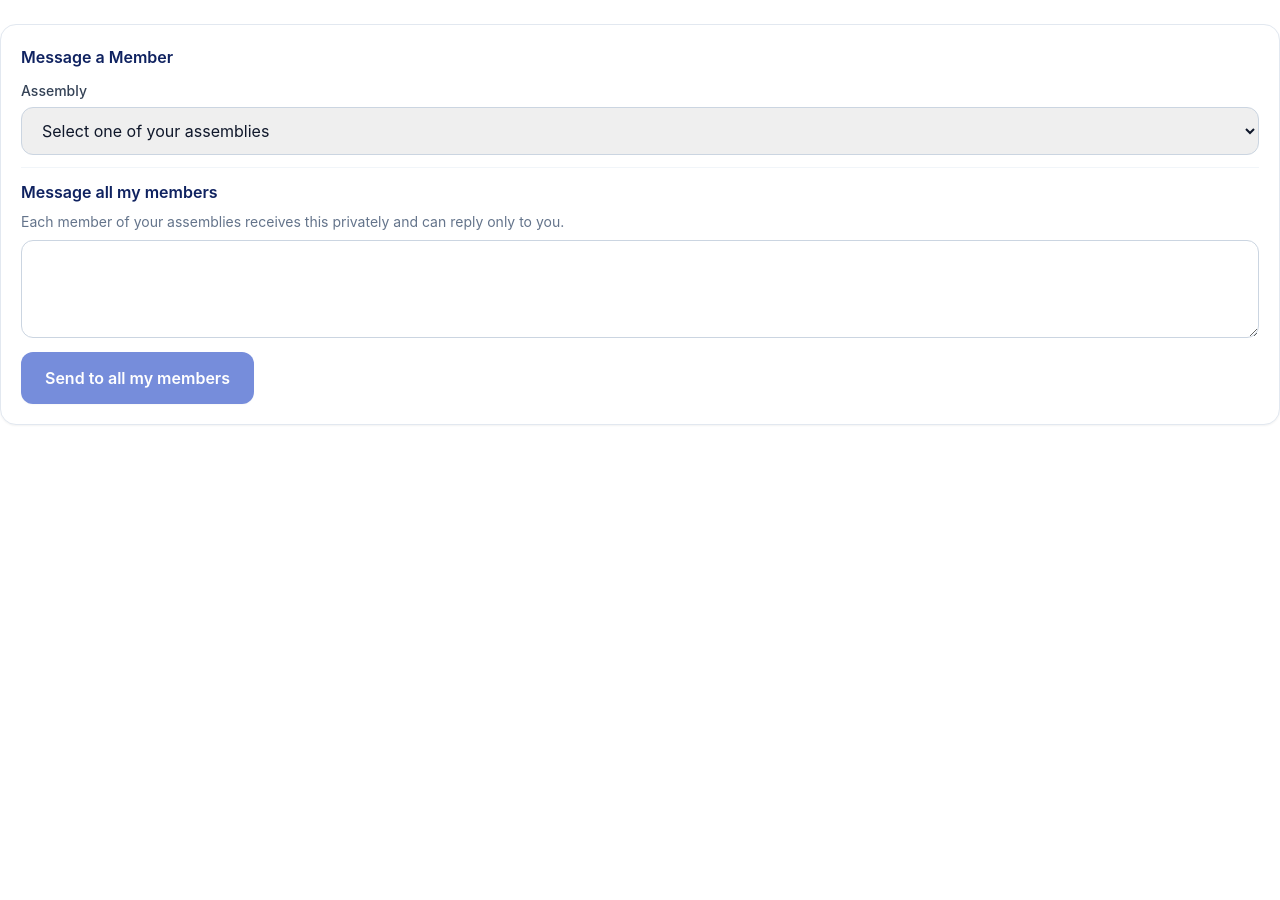
Test: StartPrivateMessage (Leader compose action) › selecting a Community and a member reveals the composer, restricted to that Community's scoped-people search
Select "Youth Ministry" in the dropdown at (640, 131), box [21,107,1259,155]
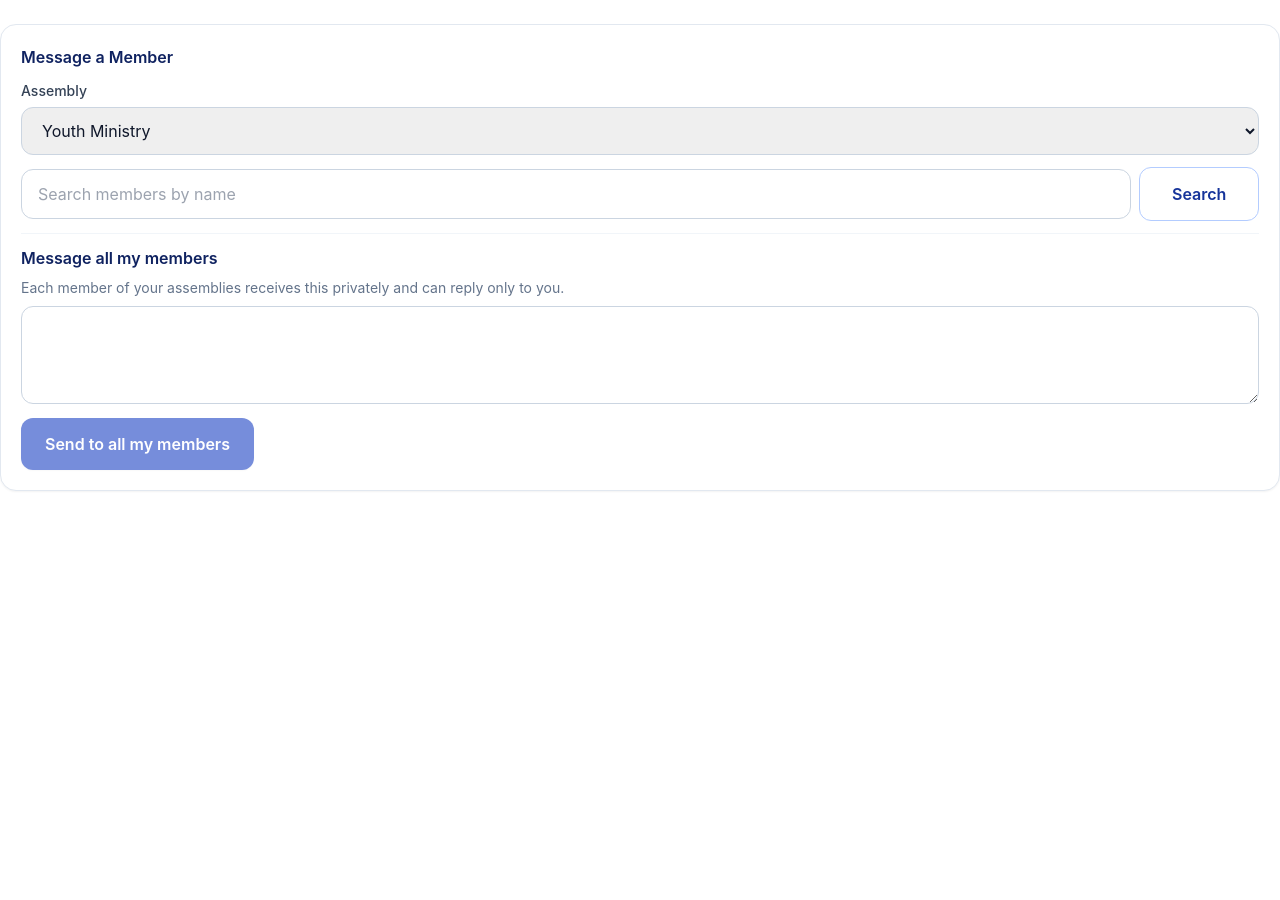
Type "Grace" into the field with placeholder "Search members by name".
click(576, 194); type("Grace")  # box [21,169,1131,219]
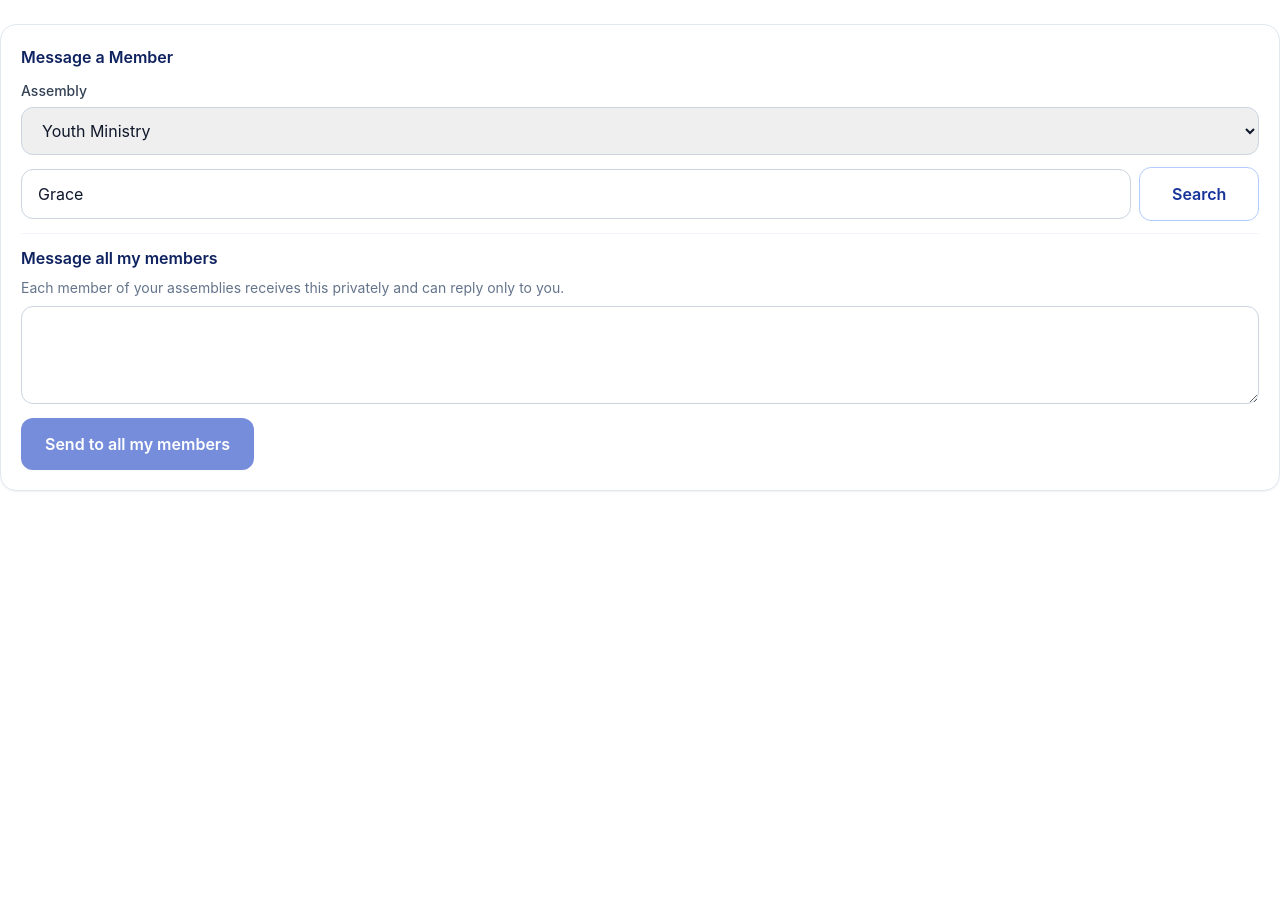
Click the button "Search".
click(1199, 194)  # box [1139,167,1259,221]
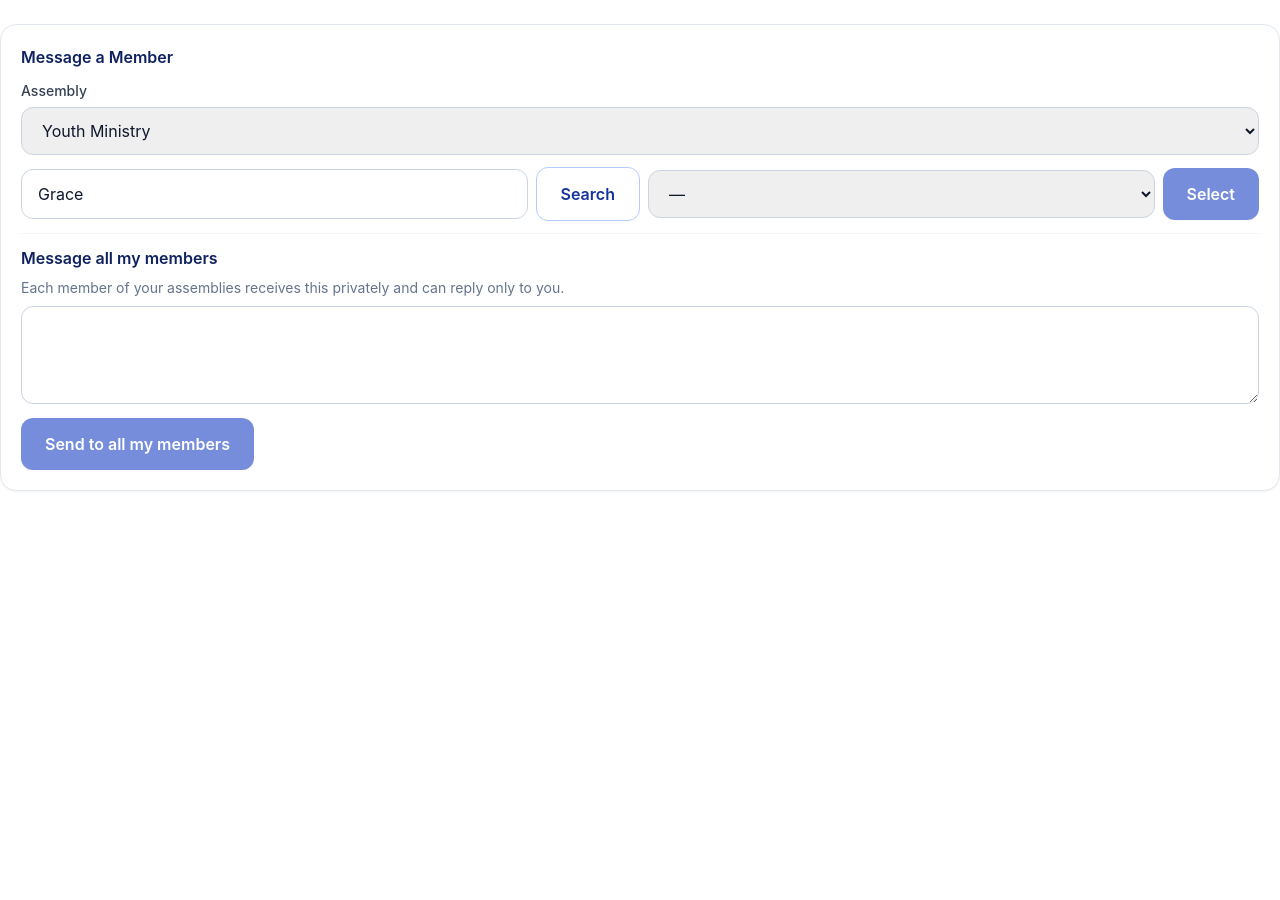
Expected: the number of dropdowns is 2
Select "Grace Doe" in the 2nd dropdown at (901, 194), box [648,170,1154,218]
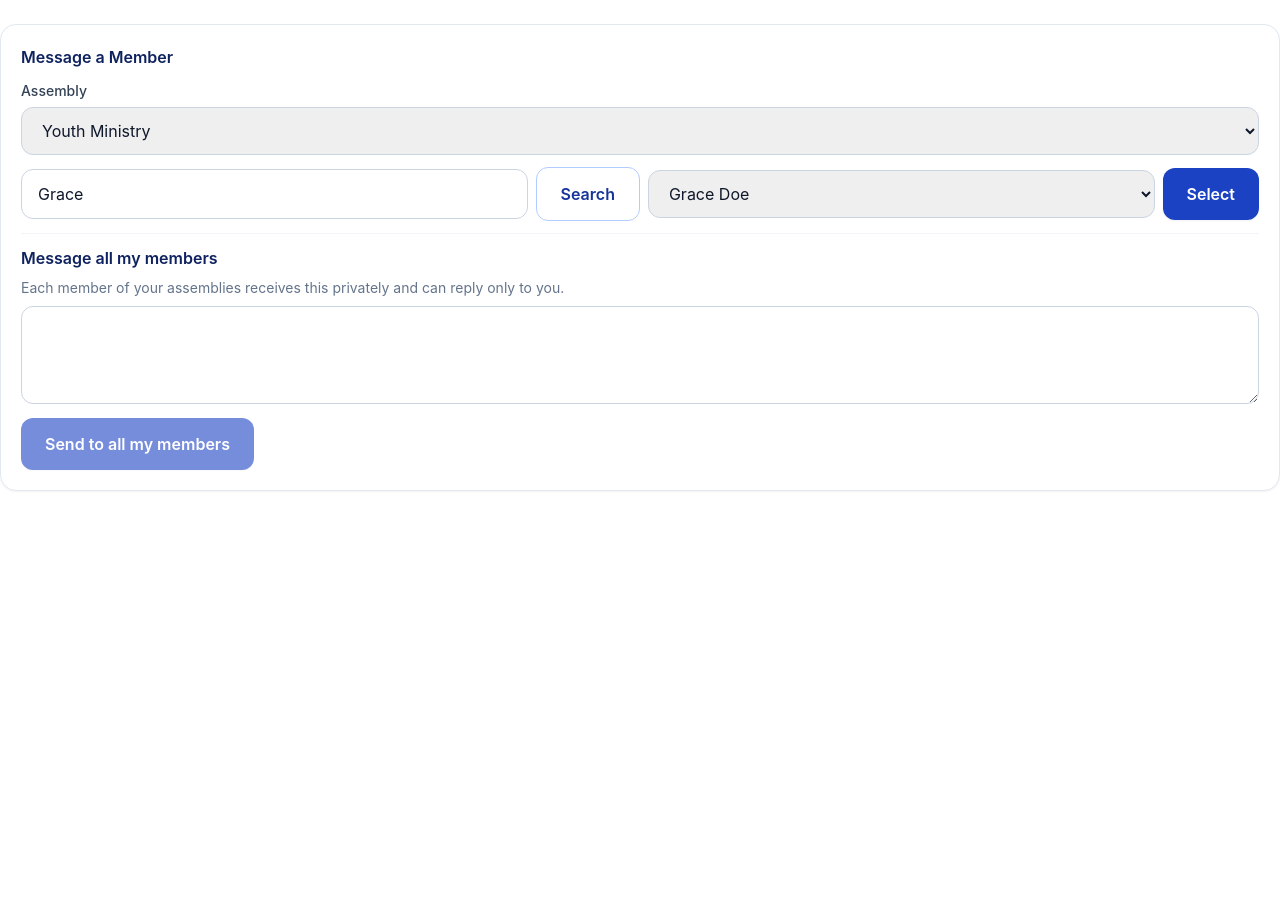
Click the button "Select".
click(1211, 194)  # box [1162,168,1259,220]
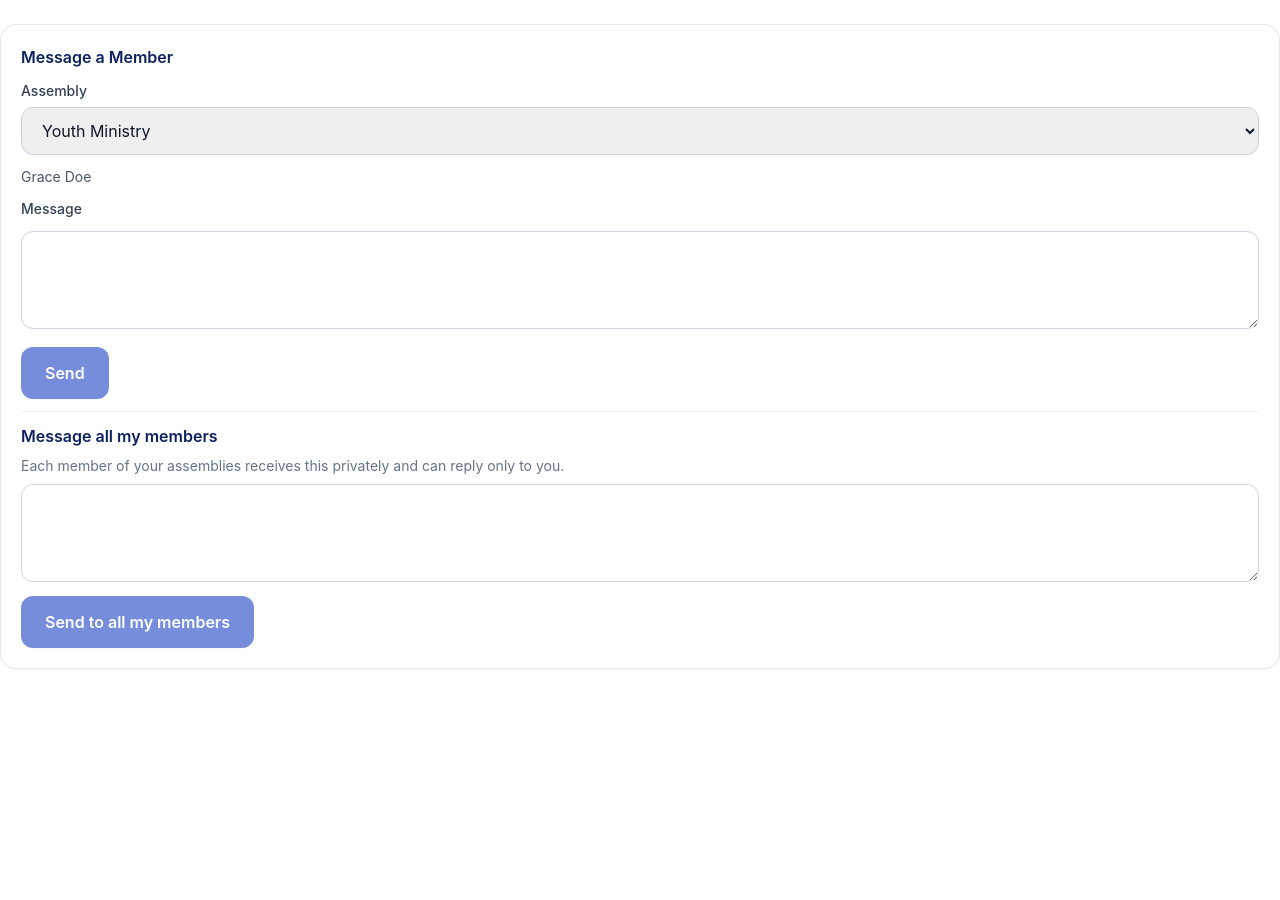
Expected: the text "Grace Doe" is shown, [21,168,91,185]
Expected: the button "Send" is shown, [21,347,109,399]
